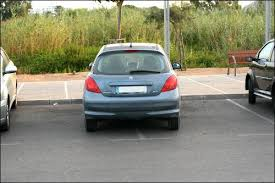car: (79, 39, 193, 133), (242, 35, 274, 105), (1, 45, 23, 140)
